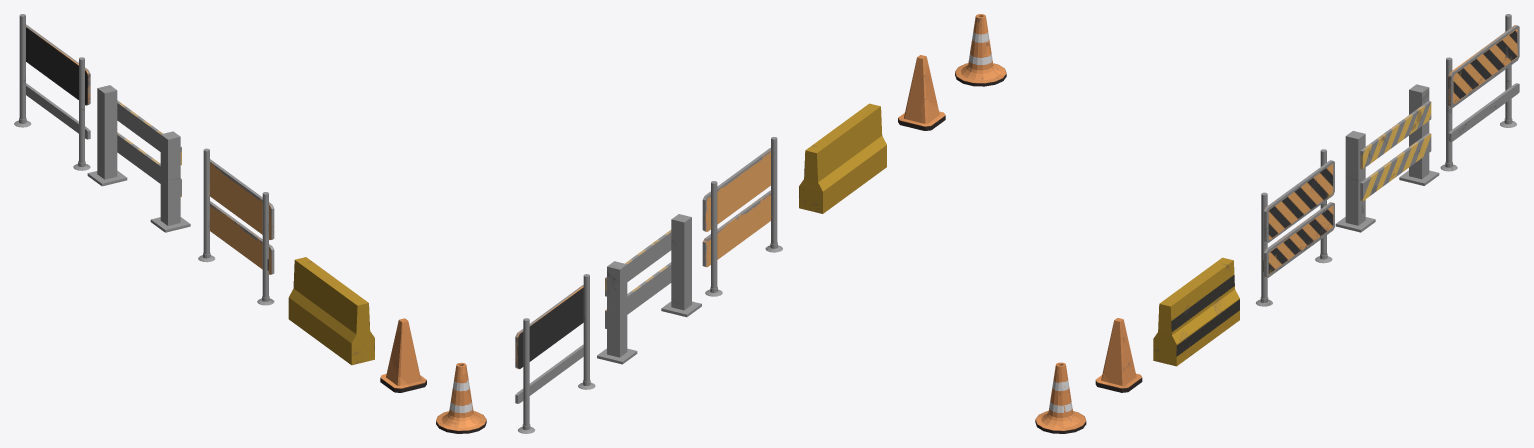
Rendered from luzhang1.FBX.
3 renders of one model, left to right at view 1: azimuth 30°, elevation 25°; view 2: azimuth 150°, elevation 25°; view 3: azimuth 330°, elevation 25°, orthographic.
Parts seen in each view (by area): view 1: hou:Box573, hou:transform002, hou:Box720, hou:Box721, hou:Box519, hou:Cylinder372; view 2: hou:Box573, hou:Box720, hou:transform002, hou:Box721, hou:Box519, hou:Cylinder372; view 3: hou:Box573, hou:transform002, hou:Box720, hou:Box721, hou:Box519, hou:Cylinder372.
Part boxes in pixels (x1,y1,x2,y2): hou:Box573: [87, 85, 190, 232]; hou:transform002: [288, 257, 374, 365]; hou:Box720: [198, 148, 274, 305]; hou:Box721: [14, 14, 90, 170]; hou:Box519: [380, 318, 426, 392]; hou:Cylinder372: [436, 362, 486, 433]; hou:Box573: [597, 214, 701, 364]; hou:Box720: [702, 137, 782, 296]; hou:transform002: [799, 103, 886, 213]; hou:Box721: [515, 274, 595, 433]; hou:Box519: [898, 55, 945, 130]; hou:Cylinder372: [955, 14, 1006, 86]; hou:Box573: [1335, 84, 1439, 232]; hou:transform002: [1153, 257, 1239, 366]; hou:Box720: [1256, 149, 1334, 306]; hou:Box721: [1440, 14, 1519, 171]; hou:Box519: [1095, 318, 1142, 392]; hou:Cylinder372: [1035, 362, 1086, 433].
Size of the model in its own units: 4.93 by 11.58 by 88.95.
Materials: 1 (1 with a texture image).
